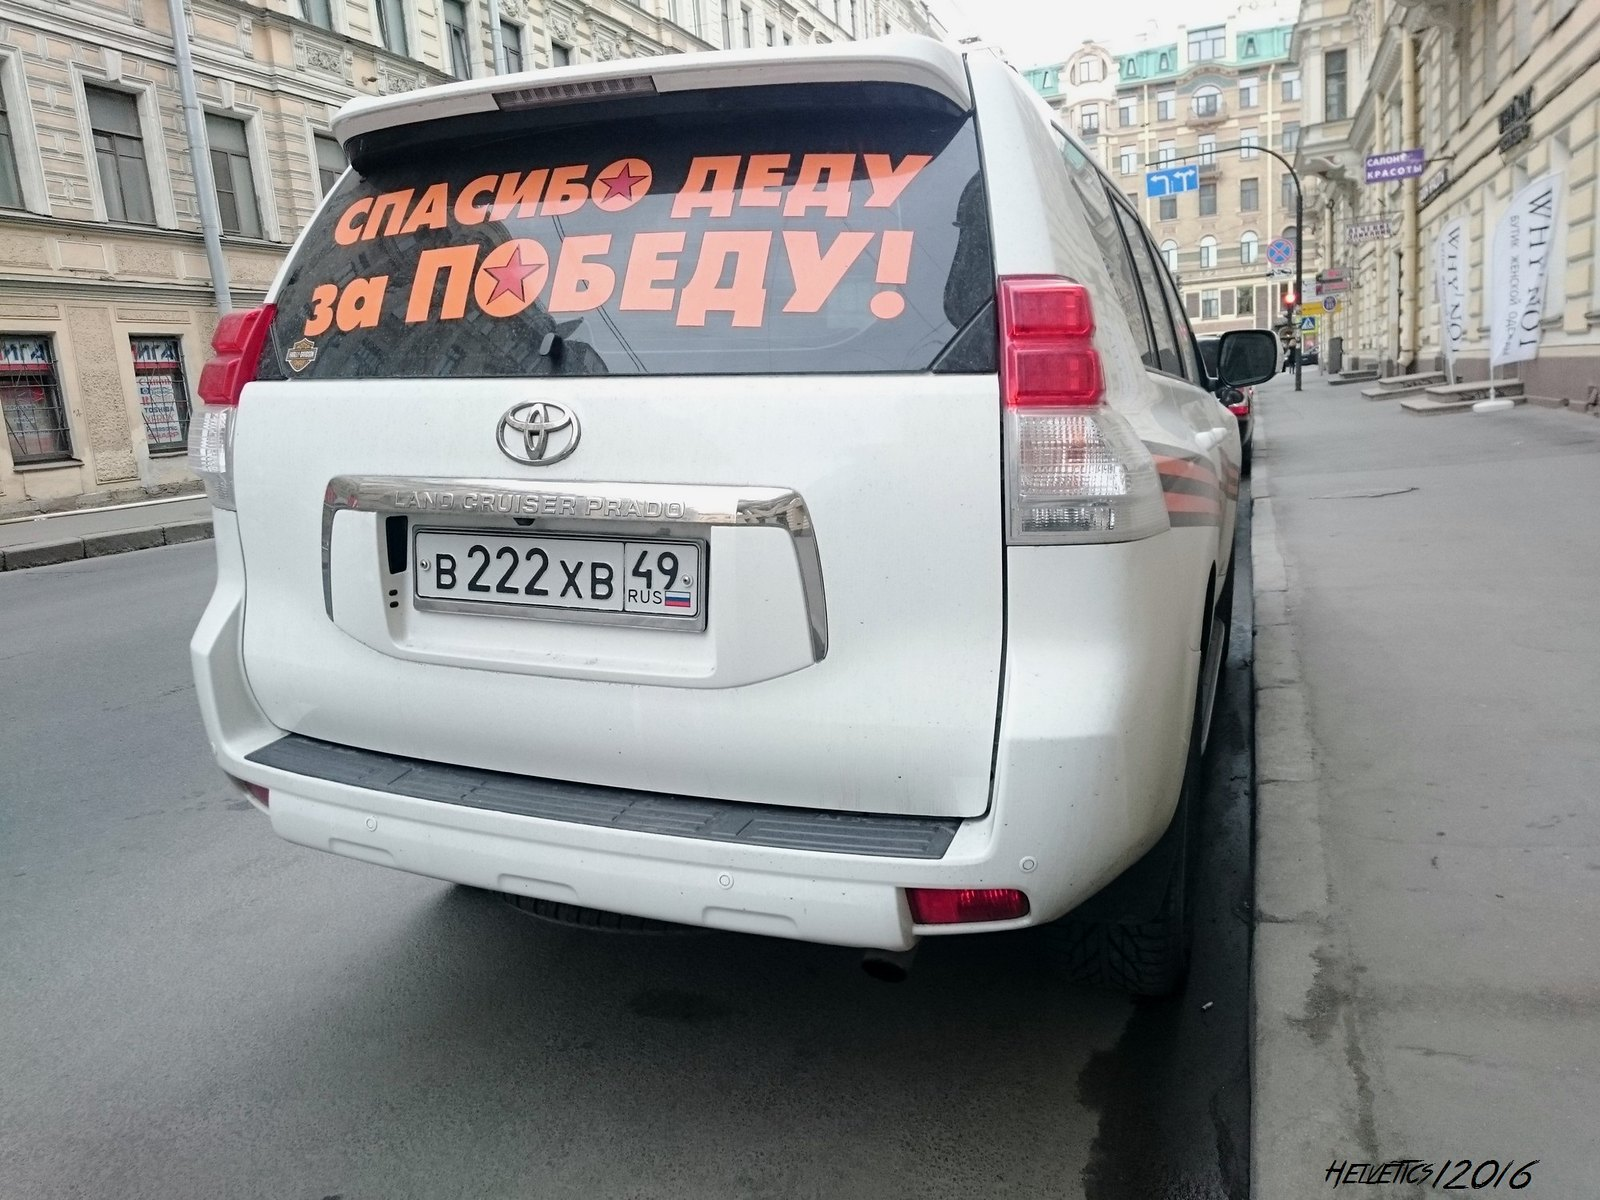car_rear: (193, 41, 1026, 954)
plate: (415, 530, 697, 620)
